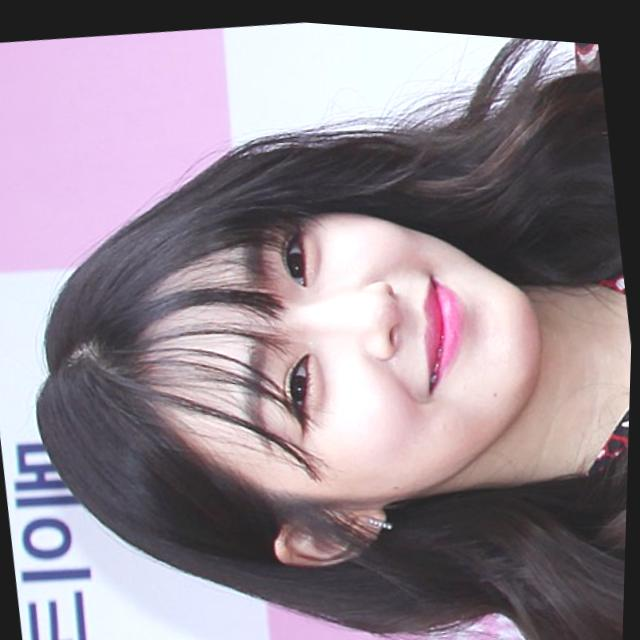face: (161, 165, 568, 530)
